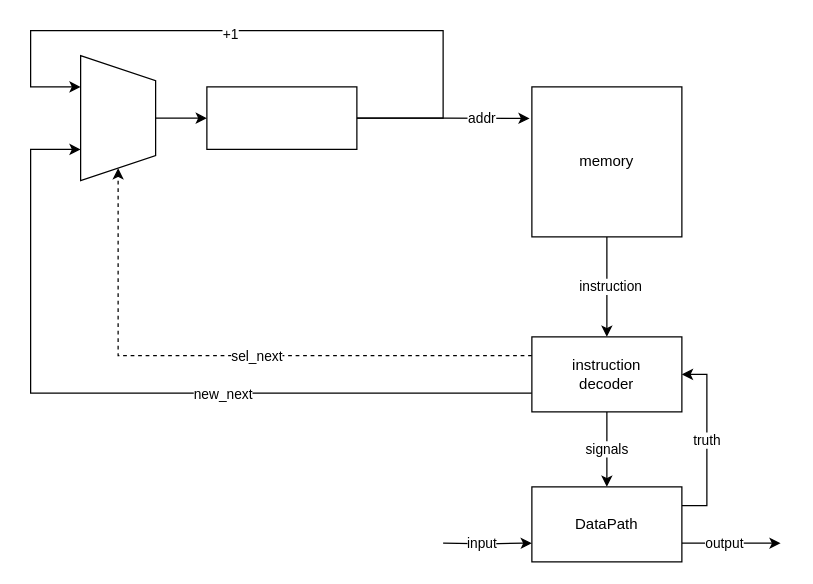
Image size: 813x584. Some labels were removed from this diagram. Each missing label, with the box of its shape:
instruction pointer: (206, 86, 357, 149)
MUX: (79, 54, 156, 181)
